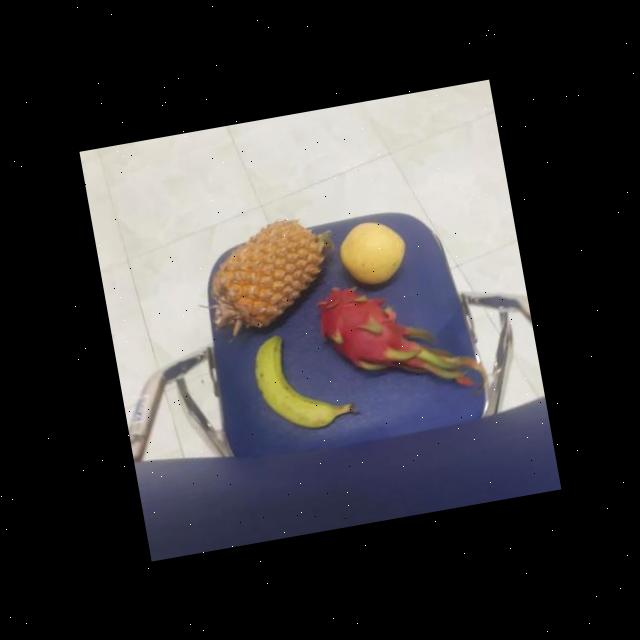banana: (247, 321, 360, 437)
pear: (334, 216, 415, 290)
pineapple: (198, 208, 346, 342)
pitaya: (314, 275, 414, 381)
